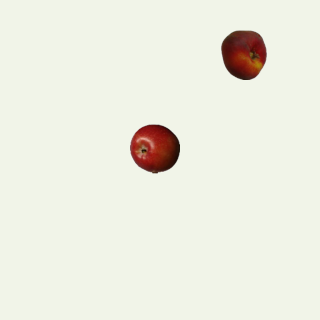Apple Braeburn: (129, 123, 179, 173)
Nectarine Flat: (218, 29, 268, 79)
